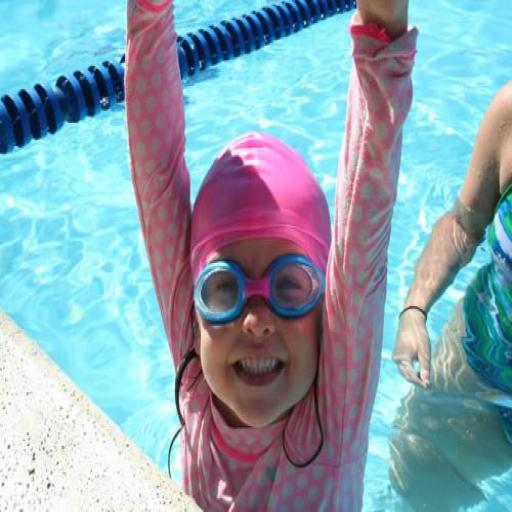swimming: (119, 0, 421, 510)
